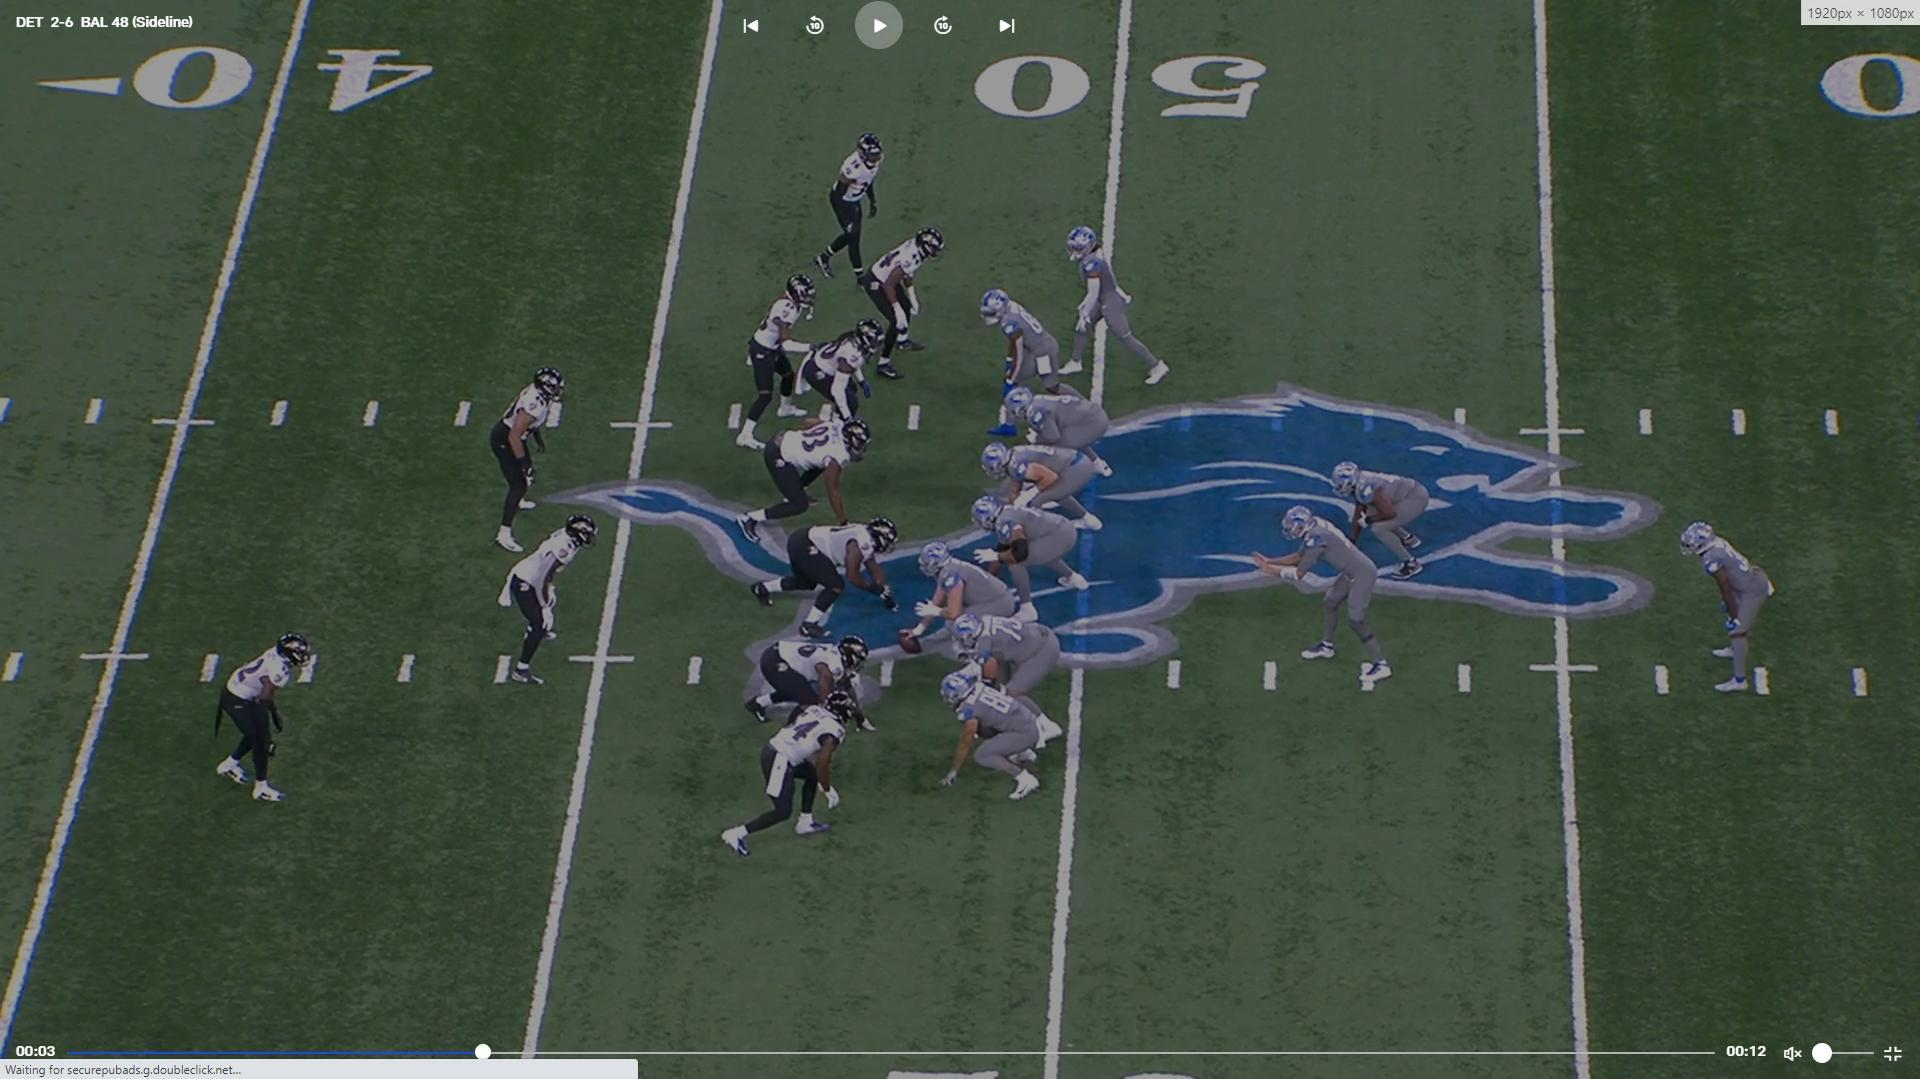player: (1275, 506, 1392, 693), (726, 701, 861, 861), (1680, 521, 1782, 703), (1059, 228, 1169, 396), (505, 515, 607, 691), (211, 634, 308, 814), (496, 360, 581, 546), (734, 278, 824, 451), (946, 672, 1064, 802), (746, 417, 867, 541), (760, 520, 901, 626), (747, 631, 882, 733), (817, 128, 902, 282), (973, 489, 1095, 595), (978, 440, 1109, 535), (1333, 460, 1427, 591), (859, 227, 944, 362), (995, 384, 1115, 478), (985, 288, 1085, 400), (906, 547, 1010, 653), (950, 610, 1063, 698), (821, 321, 882, 446)
